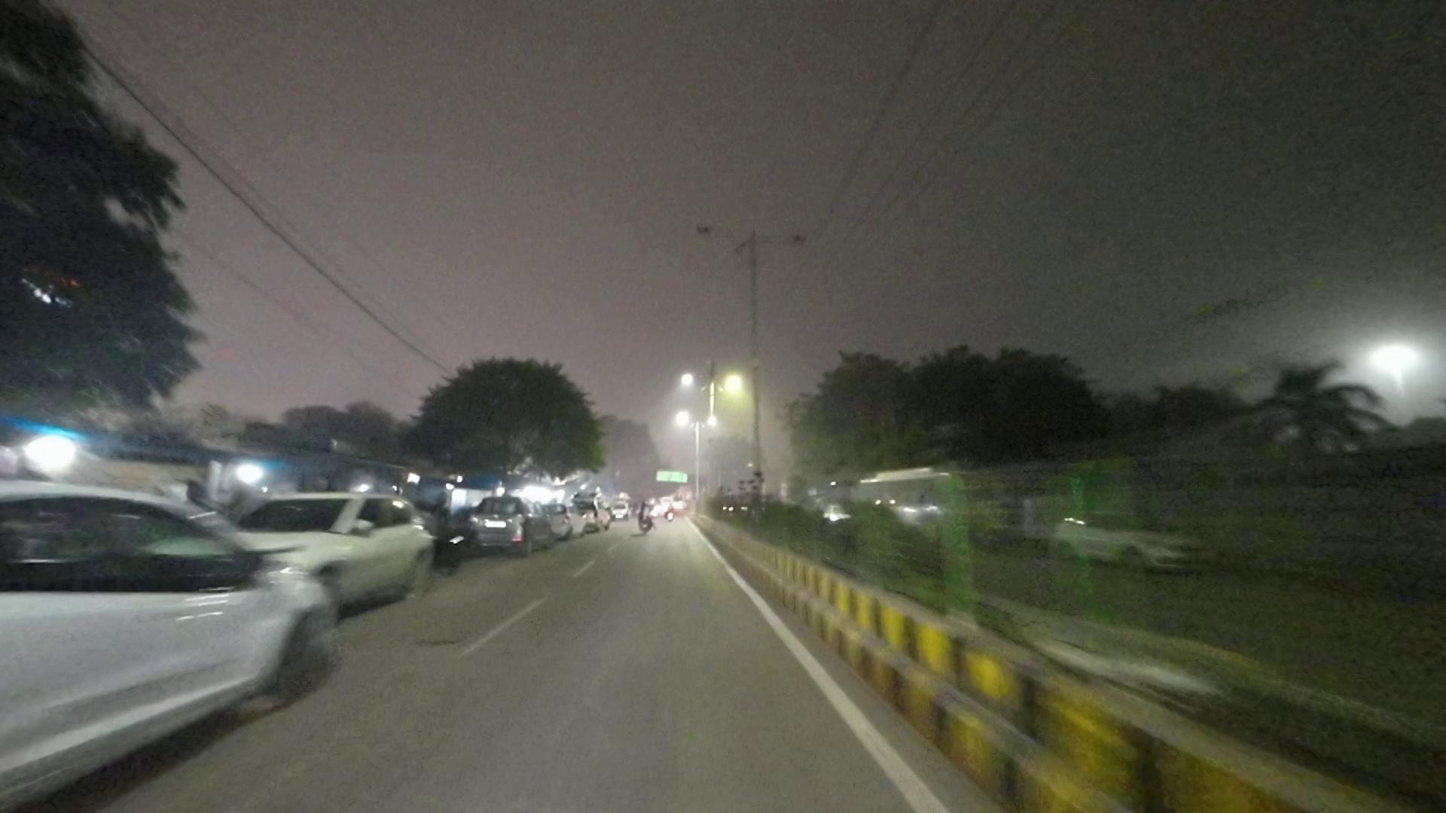streetlight: (694, 222, 748, 242), (758, 228, 811, 248)
